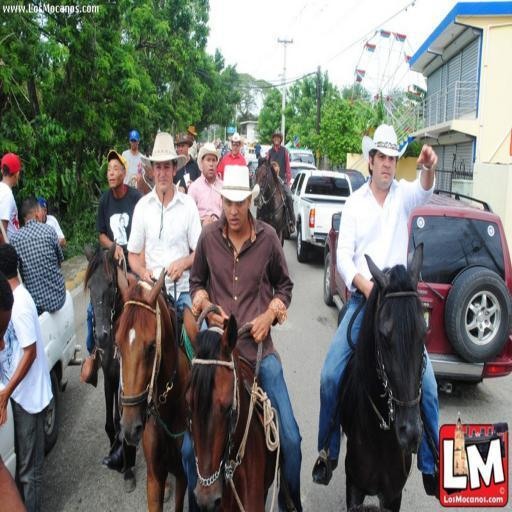horse: (338, 239, 432, 511), (112, 268, 211, 512), (184, 304, 282, 512), (76, 240, 140, 496), (251, 150, 295, 256)
